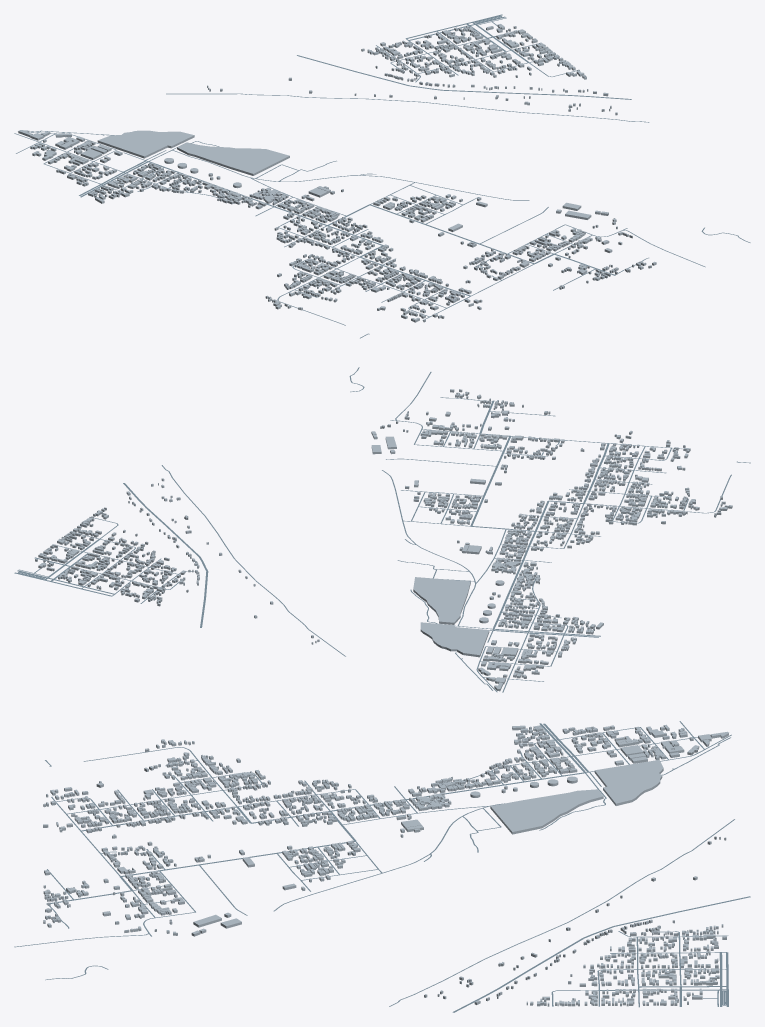
3 renders of one model, top to bottom at view 1: azimuth 30°, elevation 25°; view 2: azimuth 150°, elevation 25°; view 3: azimuth 270°, elevation 25°, orthographic. The views are drawn at different scales.
Size of the model in its own units: 2018 by 8 by 2154.
